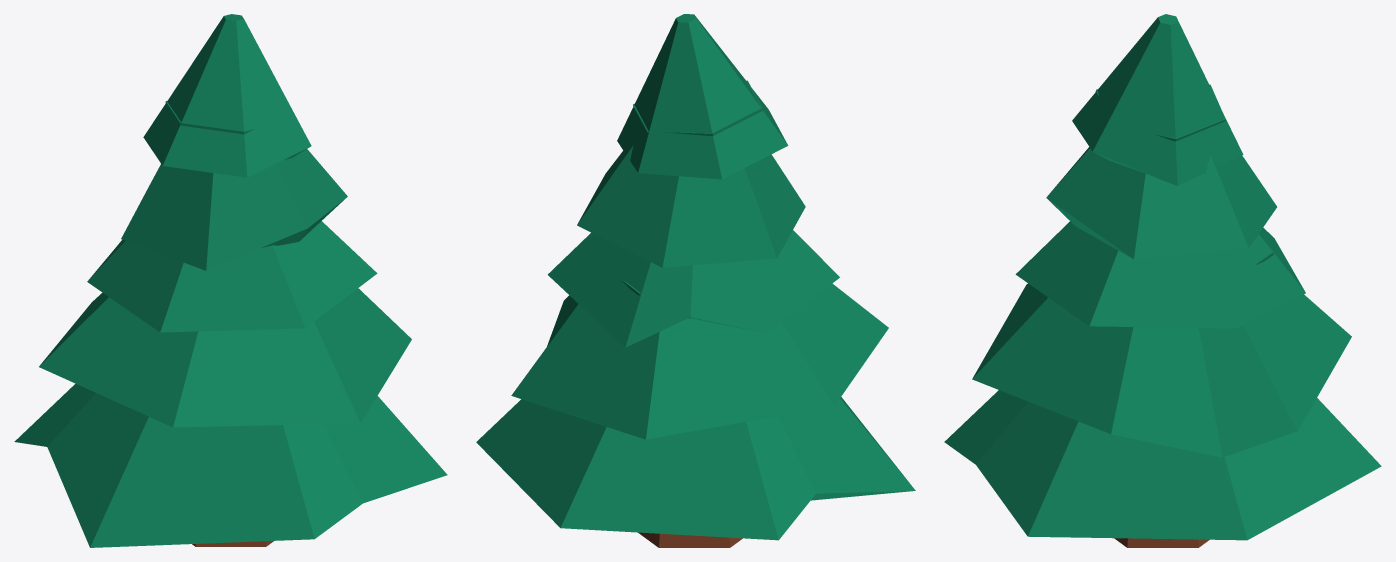
Rendered from Week12 TreeSmall.fbx.
The picture shows the model from 3 angles, left to right: view 1: azimuth 30°, elevation 25°; view 2: azimuth 150°, elevation 25°; view 3: azimuth 270°, elevation 25°; orthographic projection.
Parts seen in each view (by area): view 1: Cylinder.002, Cylinder.003, Cylinder.004, Cylinder.005, Cylinder.006; view 2: Cylinder.002, Cylinder.003, Cylinder.004, Cylinder.005, Cylinder.006, Cylinder.001; view 3: Cylinder.003, Cylinder.002, Cylinder.004, Cylinder.005, Cylinder.006, Cylinder.001.
Boxes of the visible parts, left/top/right/bottom form: Cylinder.002: left=14, top=383, right=447, bottom=547; Cylinder.003: left=39, top=288, right=411, bottom=427; Cylinder.004: left=87, top=221, right=377, bottom=332; Cylinder.005: left=121, top=149, right=347, bottom=270; Cylinder.006: left=143, top=14, right=311, bottom=177; Cylinder.002: left=476, top=397, right=915, bottom=540; Cylinder.003: left=511, top=283, right=888, bottom=439; Cylinder.004: left=547, top=230, right=839, bottom=347; Cylinder.005: left=577, top=145, right=805, bottom=267; Cylinder.006: left=617, top=14, right=788, bottom=179; Cylinder.001: left=638, top=532, right=742, bottom=547; Cylinder.003: left=972, top=283, right=1351, bottom=457; Cylinder.002: left=944, top=390, right=1381, bottom=540; Cylinder.004: left=1015, top=221, right=1305, bottom=328; Cylinder.005: left=1046, top=147, right=1276, bottom=259; Cylinder.006: left=1072, top=14, right=1243, bottom=185; Cylinder.001: left=1114, top=538, right=1209, bottom=547.
Size of the model in its own units: 580 by 783 by 613.
